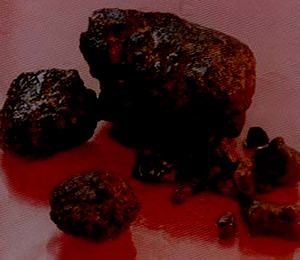halobolite: (80, 3, 259, 147), (2, 61, 99, 163), (52, 162, 146, 239), (206, 186, 299, 247), (130, 147, 179, 182)
